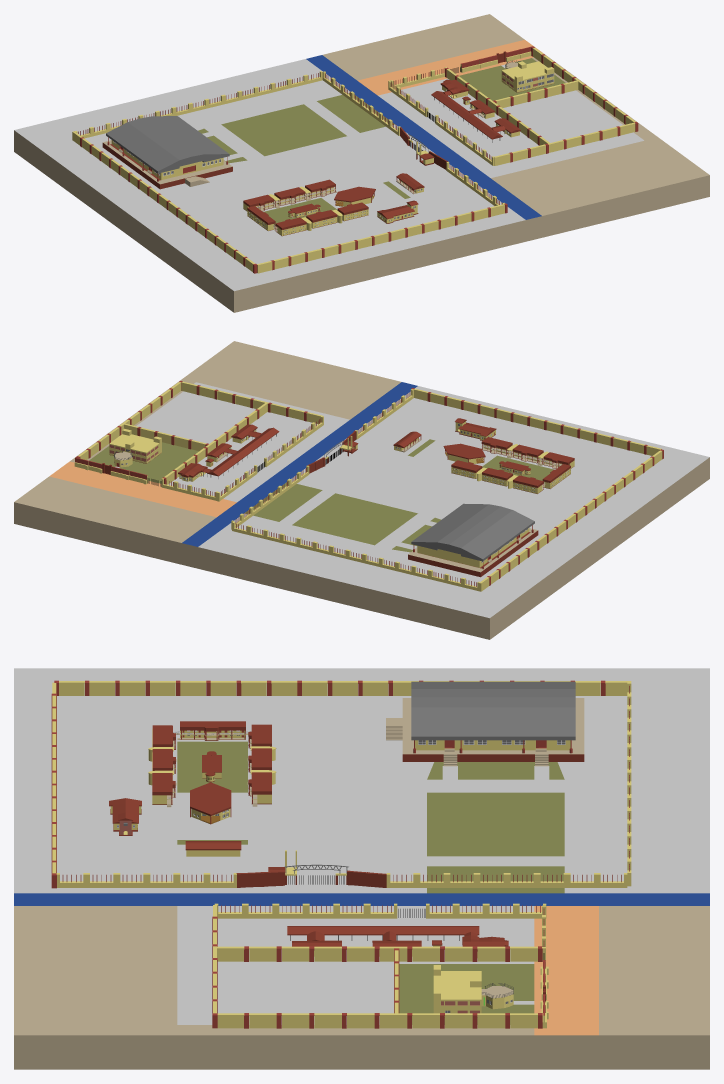
File: MYSchool_project9.glb
3 views of the same model, one above another, from view 1: azimuth 30°, elevation 25°; view 2: azimuth 150°, elevation 25°; view 3: azimuth 270°, elevation 25° (orthographic). The views are drawn at different scales.
Visible parts, largest first — view 1: Overall_ground_plane, Hall_roof, achool_wall2, school_wall, school_wall5, achool_wall2.001, annex, ground_floor, achool_wall2.002, achool_wall2.003, achool_wall2.004, Hall (+5 smaller); view 2: Overall_ground_plane, Hall_roof, achool_wall2, school_wall, school_wall5, achool_wall2.001, ground_floor, annex, achool_wall2.002, achool_wall2.003, Hall, achool_wall2.004 (+5 smaller); view 3: Overall_ground_plane, Hall_roof, school_wall, achool_wall2.002, achool_wall2.003, ground_floor, school_wall4, annex, school_wall4.003, school_wall3, Cube.040, Hall (+8 smaller).
Part boxes in pixels (x1,y1,x2,y2): Overall_ground_plane: [14, 14, 709, 312]; Hall_roof: [106, 116, 229, 173]; achool_wall2: [257, 203, 507, 273]; school_wall: [72, 131, 257, 273]; school_wall5: [74, 71, 322, 138]; achool_wall2.001: [494, 122, 638, 165]; annex: [501, 61, 554, 92]; ground_floor: [102, 140, 232, 189]; achool_wall2.002: [531, 46, 635, 124]; achool_wall2.003: [444, 67, 549, 145]; achool_wall2.004: [493, 80, 578, 107]; Hall: [111, 140, 223, 179]; Overall_ground_plane: [14, 341, 709, 639]; Hall_roof: [411, 503, 534, 561]; achool_wall2: [411, 388, 661, 455]; school_wall: [479, 449, 663, 591]; school_wall5: [232, 521, 479, 591]; achool_wall2.001: [179, 381, 322, 423]; ground_floor: [408, 528, 538, 577]; annex: [109, 428, 161, 463]; achool_wall2.002: [75, 382, 180, 459]; achool_wall2.003: [162, 403, 267, 484]; Hall: [417, 528, 529, 567]; achool_wall2.004: [124, 423, 208, 451]; Overall_ground_plane: [14, 668, 709, 1069]; Hall_roof: [411, 681, 575, 740]; school_wall: [54, 680, 631, 695]; achool_wall2.002: [217, 1013, 542, 1028]; achool_wall2.003: [217, 946, 542, 961]; ground_floor: [402, 698, 584, 761]; school_wall4: [386, 873, 627, 887]; annex: [433, 965, 481, 1017]; school_wall4.003: [214, 903, 397, 918]; school_wall3: [56, 873, 236, 887]; Cube.040: [287, 926, 479, 935]; Hall: [415, 740, 570, 750].
Size of the model in its own units: 433 by 38.31 by 347.
Materials: 268 (267 with a texture image).
